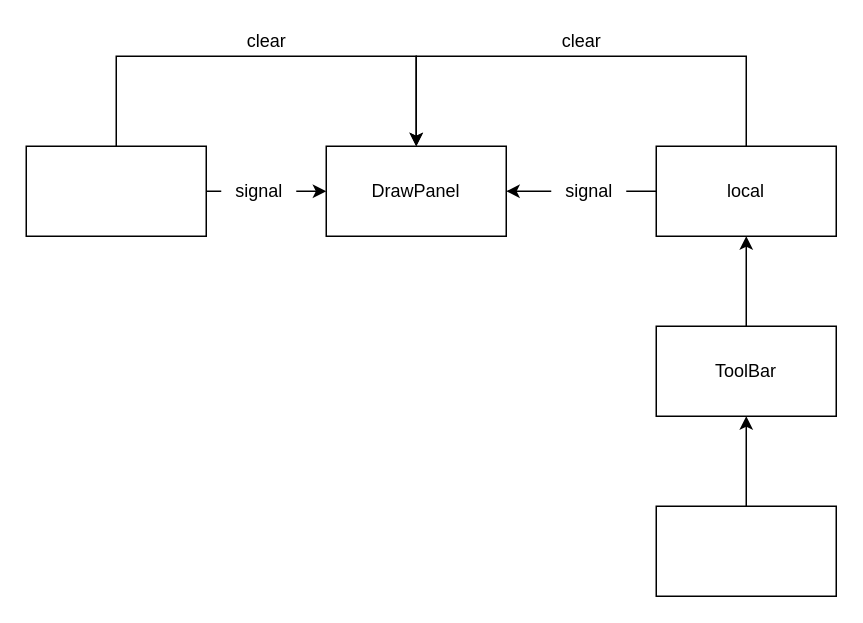
Some shapes in this 863 by 623 pixel diagram are drawn without their labels. Here are the shapes that lost their labels. From the top down, the box of each, then its label:
(25, 145, 206, 236): client
(655, 505, 836, 596): Ball
